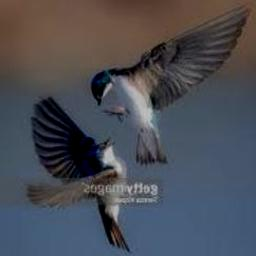Swallow: (91, 3, 252, 165), (28, 97, 130, 250)
